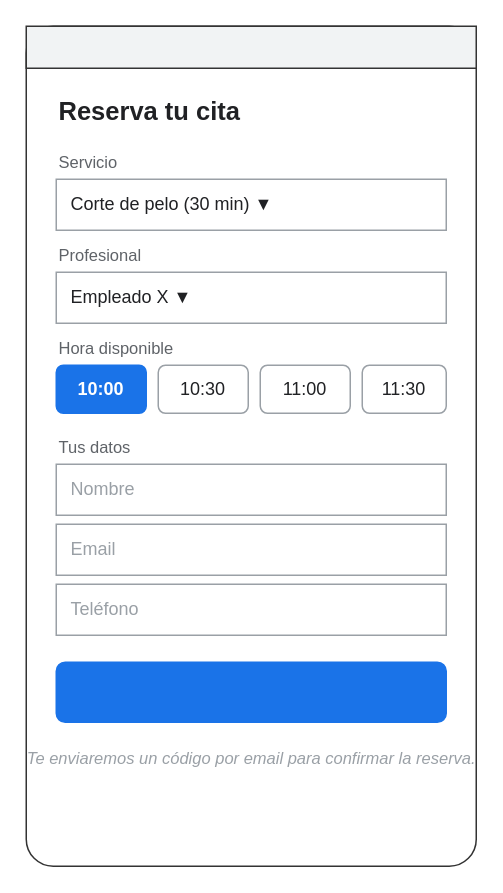
The diagram is 503 pixels wide and 893 high, and some of its shapes have lost their labels. Each missing label, with the centre of its shape:
barberia-paco.jpasoftware.com: [250,46]
Continuar: [250,691]
